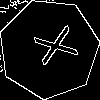X: (24, 23, 79, 71)
